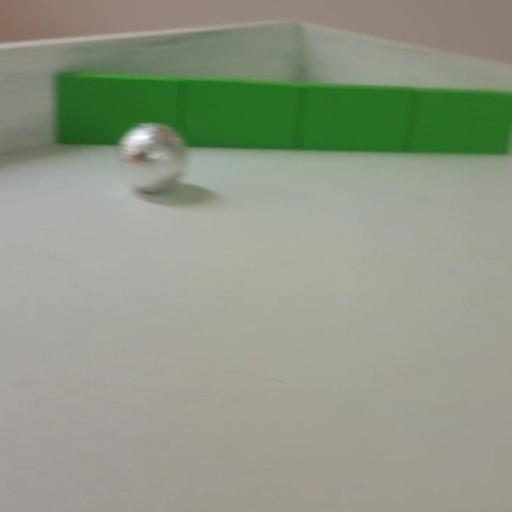alive: (119, 122, 185, 192)
